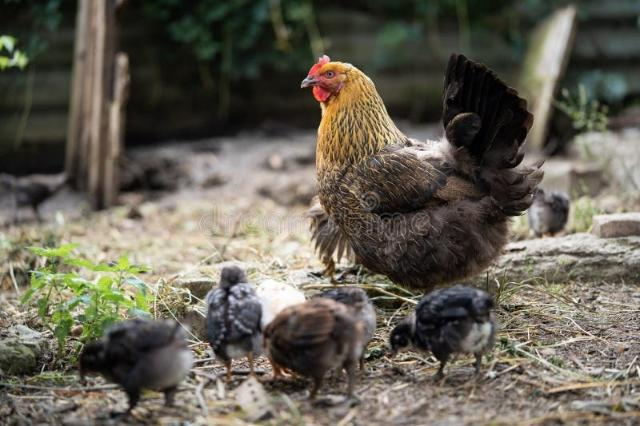Chicken: (300, 54, 545, 292)
